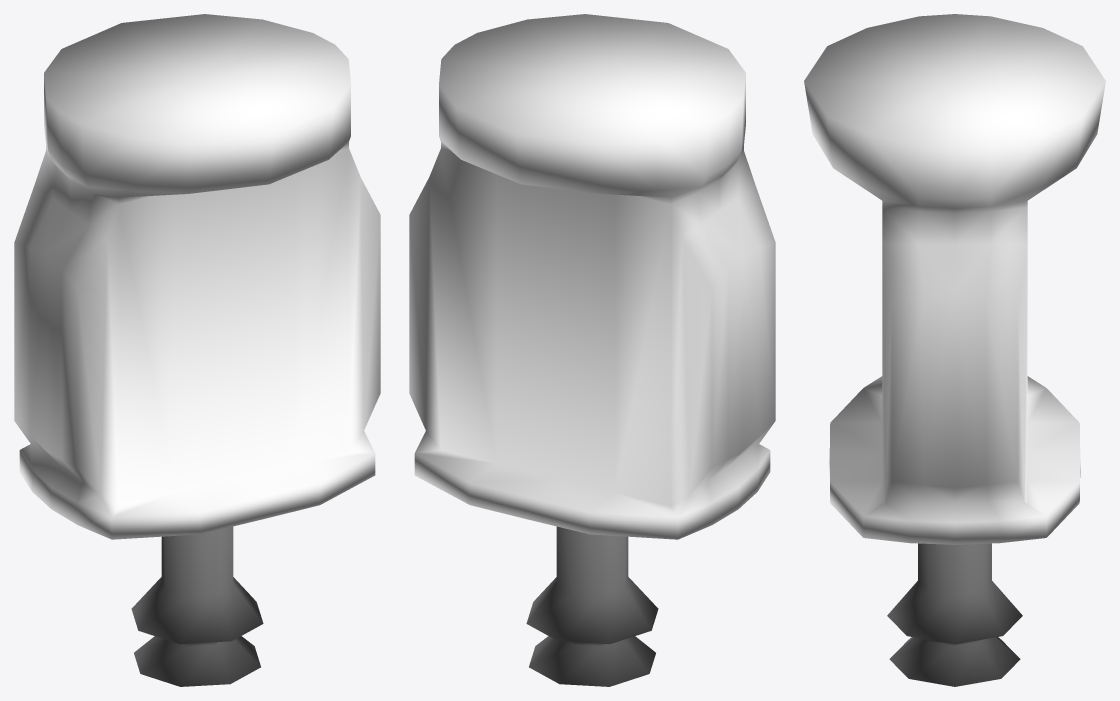
Rendered from suctionCup.glb.
3 renders of one model, left to right at view 1: azimuth 30°, elevation 25°; view 2: azimuth 150°, elevation 25°; view 3: azimuth 270°, elevation 25°, orthographic.
Visible parts, largest first — view 1: v_04_SuctionCup_Final; view 2: v_04_SuctionCup_Final; view 3: v_04_SuctionCup_Final.
Boxes of the visible parts, x1,y1,x2,y2 form: v_04_SuctionCup_Final: [14, 14, 380, 686]; v_04_SuctionCup_Final: [409, 14, 775, 686]; v_04_SuctionCup_Final: [804, 14, 1105, 686].
Bounding box in the file's own units: 0.4215 × 0.7738 × 0.3662.
Materials: 1 (1 with a texture image).
